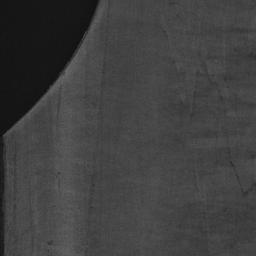Crescent gap: (0, 0, 98, 134)
